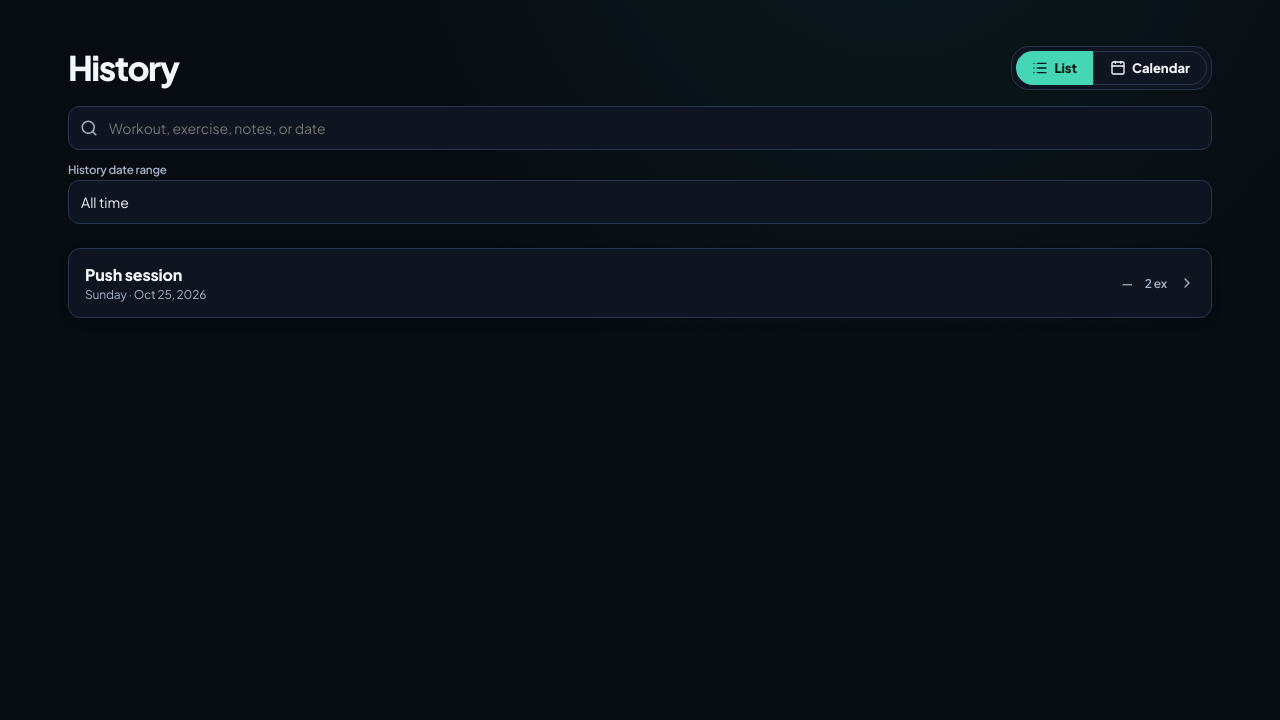
repeat confirmation › rechecks the current active plan before saving
Click the text "Push session": point(134, 274) [85,264,182,285]
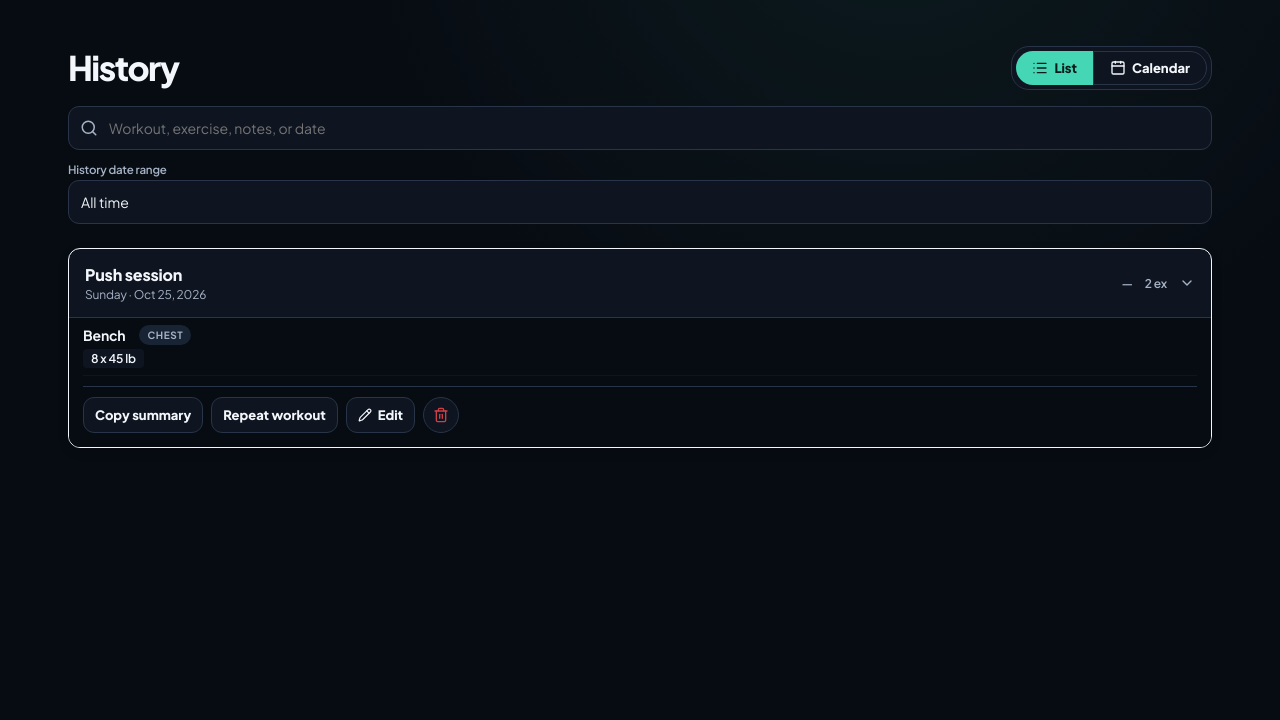
Click the button "Repeat workout": point(274, 415) [211,397,338,433]
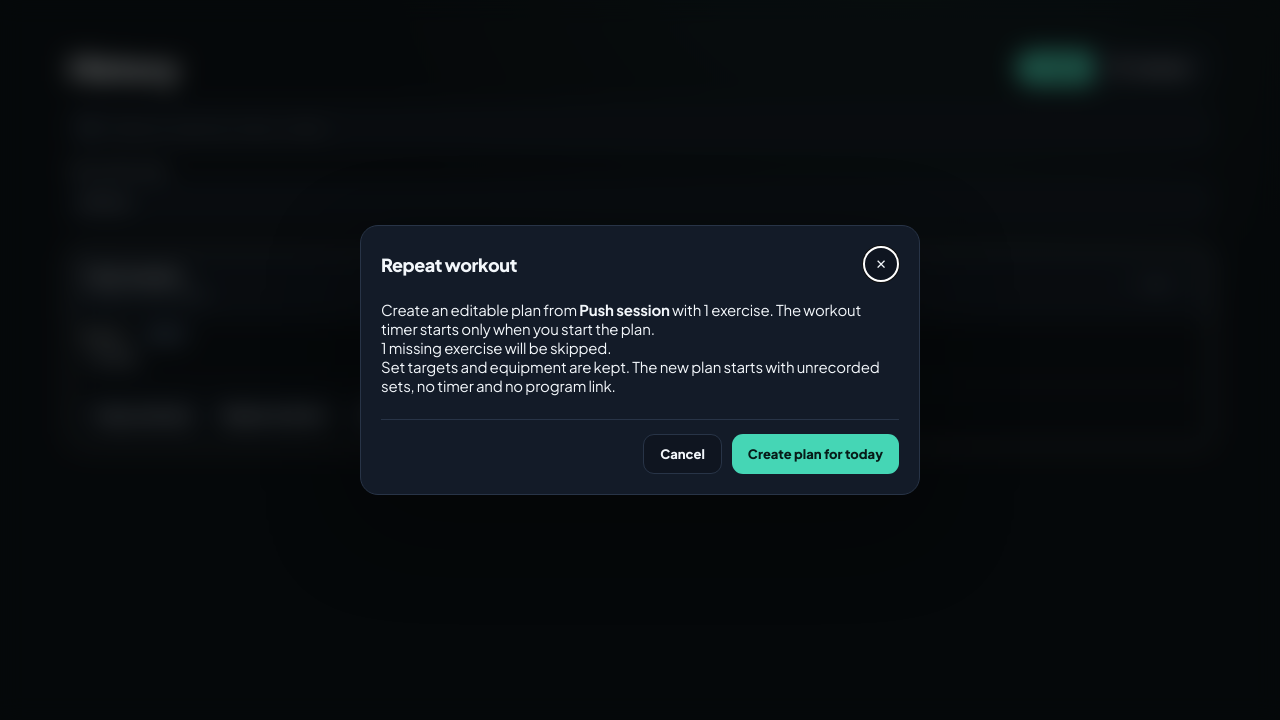
Click the button "Create plan for today": point(815, 454) [732,434,899,474]
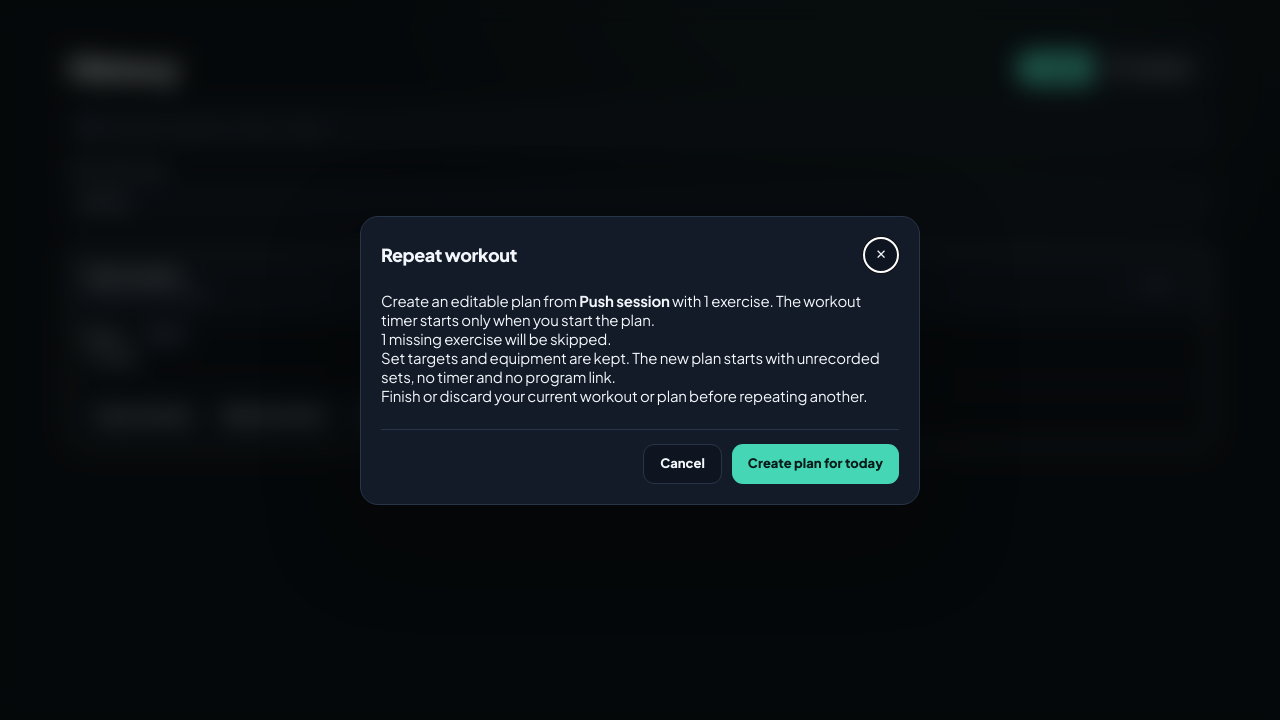
Result: the message "Finish or discard your current workout or plan before repeating another." is shown at [381,386,899,404]
